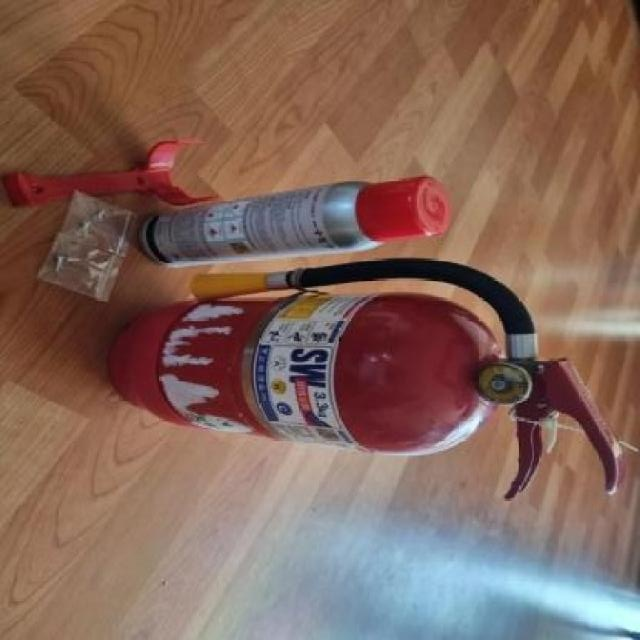fire extinguisher: (106, 258, 626, 499)
